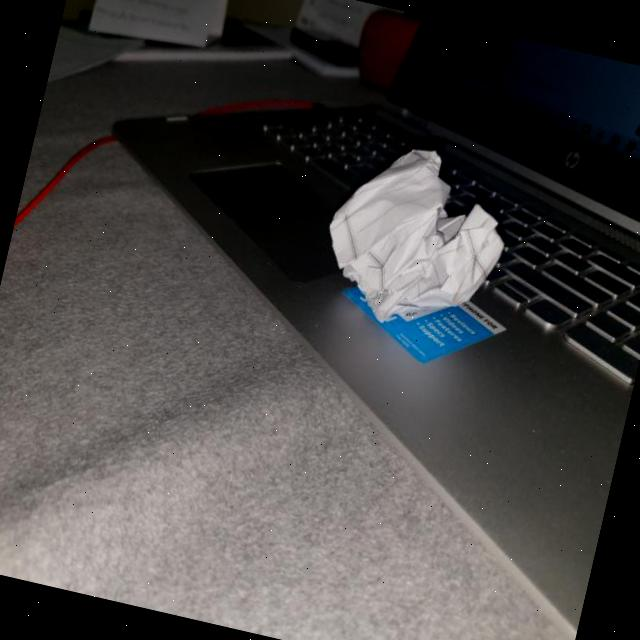trash: (307, 117, 529, 349)
